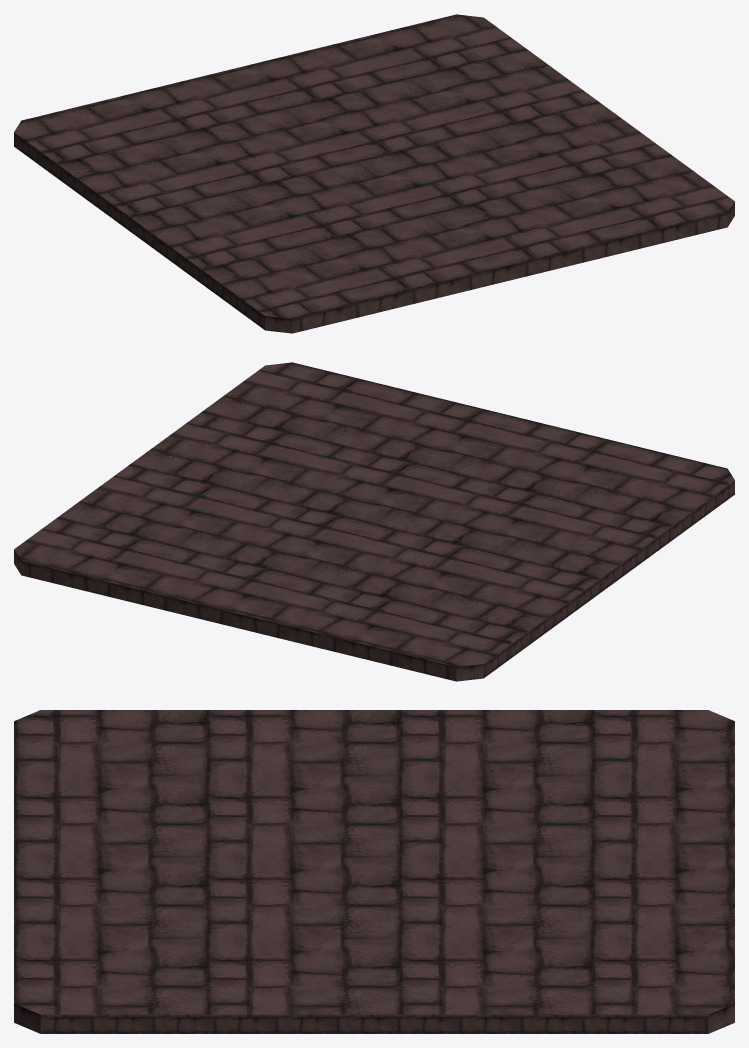
File: MOD_L1_Platform1.fbx
The picture shows the model from 3 angles, top to bottom: view 1: azimuth 30°, elevation 25°; view 2: azimuth 150°, elevation 25°; view 3: azimuth 270°, elevation 25°; orthographic projection. The views are drawn at different scales.
Parts seen in each view (by area): view 1: Platform_R1; view 2: Platform_R1; view 3: Platform_R1.
Part boxes in pixels (x1,y1,x2,y2): Platform_R1: (14,14,734,333); Platform_R1: (14,362,734,681); Platform_R1: (14,710,734,1033).
Size of the model in its own units: 130 by 3.83 by 130.
